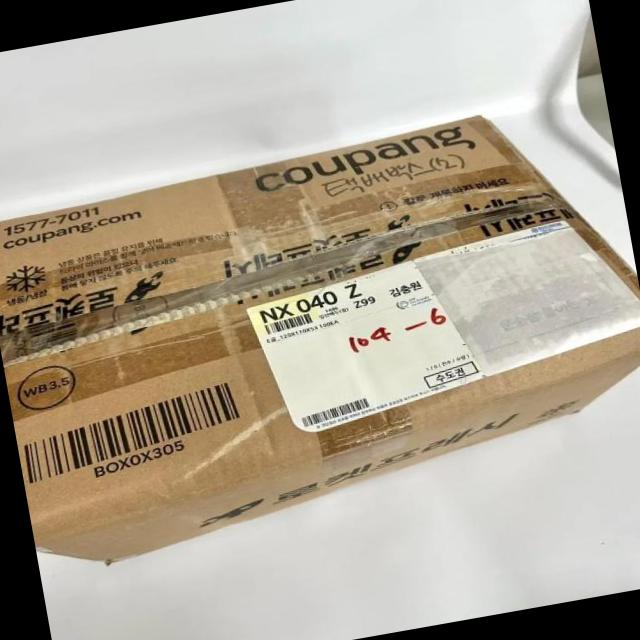box: (1, 114, 639, 564)
